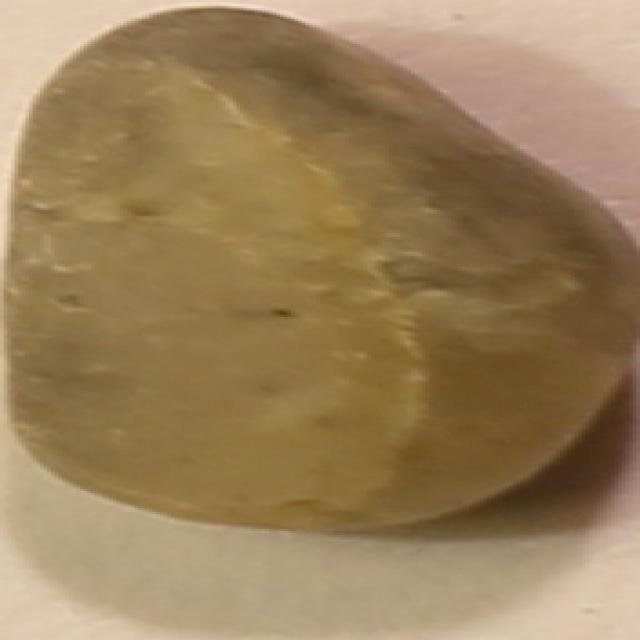stone: (0, 0, 635, 535)
